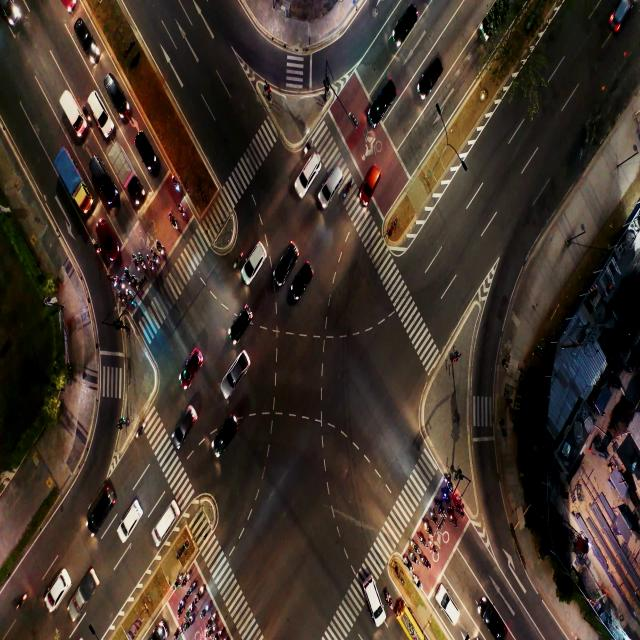bus: (402, 615, 418, 640)
car: (416, 60, 440, 102), (394, 6, 418, 41), (362, 161, 378, 202), (229, 312, 250, 341), (280, 248, 295, 285), (607, 4, 631, 26), (300, 154, 320, 180), (96, 486, 112, 518), (373, 85, 391, 112), (295, 267, 313, 294), (160, 503, 179, 528), (482, 598, 498, 626), (184, 352, 198, 384), (177, 414, 196, 437), (110, 76, 124, 106), (251, 244, 265, 272), (217, 424, 232, 450), (94, 163, 108, 190), (328, 168, 344, 191), (366, 584, 378, 614), (128, 502, 145, 522), (442, 596, 457, 618), (80, 26, 92, 53), (234, 356, 247, 380), (100, 228, 114, 248), (52, 572, 67, 590), (146, 132, 155, 160), (93, 100, 105, 121)
motorcycle: (15, 594, 27, 614), (230, 253, 242, 270), (135, 422, 146, 439), (387, 592, 396, 612), (345, 178, 353, 198), (110, 272, 118, 288), (305, 138, 312, 156), (178, 206, 188, 218), (170, 214, 178, 229), (171, 177, 180, 190), (134, 253, 140, 272), (92, 240, 99, 256), (206, 625, 217, 635), (414, 571, 421, 586), (134, 276, 140, 292), (127, 289, 134, 302), (173, 576, 180, 588), (174, 624, 180, 638), (203, 602, 210, 614), (431, 509, 437, 522), (126, 271, 132, 284), (218, 626, 225, 637), (199, 586, 205, 598), (159, 241, 164, 255), (178, 599, 183, 613), (119, 293, 125, 304), (450, 513, 455, 526), (444, 492, 450, 502), (426, 522, 432, 532), (430, 540, 435, 552), (186, 605, 192, 615), (209, 612, 215, 622), (149, 258, 153, 272), (141, 254, 145, 268), (447, 477, 452, 488), (184, 574, 190, 583), (457, 502, 462, 512), (438, 504, 443, 514), (120, 280, 125, 290), (191, 582, 196, 592), (420, 534, 424, 546), (413, 543, 418, 552), (413, 555, 417, 566), (154, 254, 158, 265), (423, 556, 427, 566), (186, 619, 190, 629), (407, 560, 410, 567)
truck: (74, 575, 96, 609), (118, 157, 136, 185), (66, 103, 78, 124), (66, 168, 78, 188)
